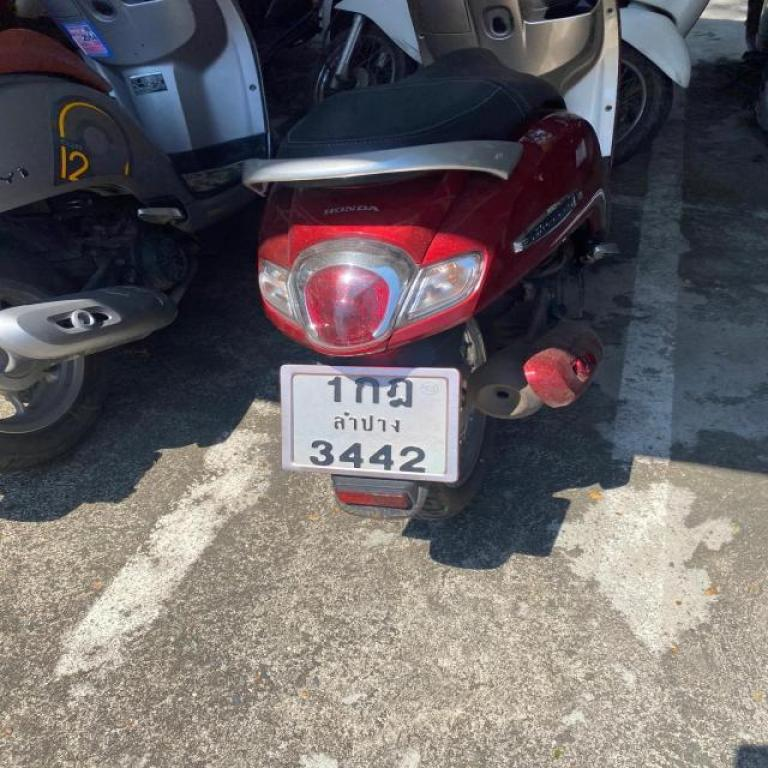license plate: (276, 356, 471, 488)
